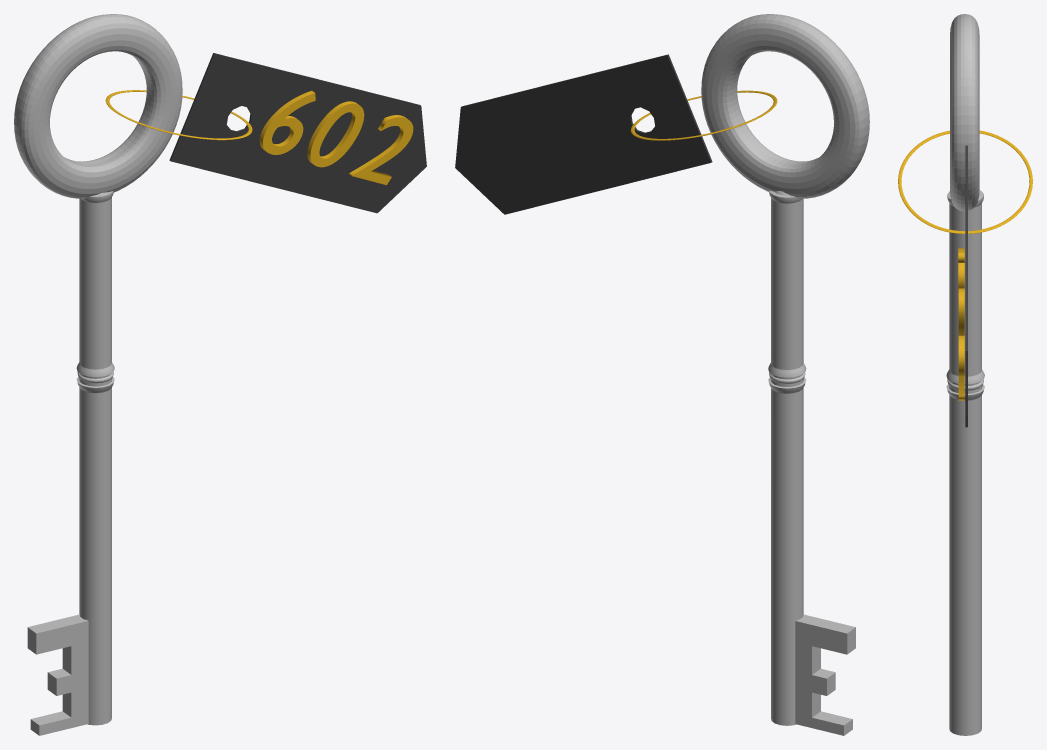
File: key602_fix.fbx
3 views of the same model, side by side, from view 1: azimuth 30°, elevation 25°; view 2: azimuth 150°, elevation 25°; view 3: azimuth 270°, elevation 25° (orthographic).
Parts seen in each view (by area): view 1: key602; view 2: key602; view 3: key602.
Boxes of the visible parts, <box> form: key602: <box>14,14,426,735</box>; key602: <box>455,14,869,735</box>; key602: <box>898,14,1032,735</box>.
Size of the model in its own units: 8.68 by 14.18 by 2.45.
